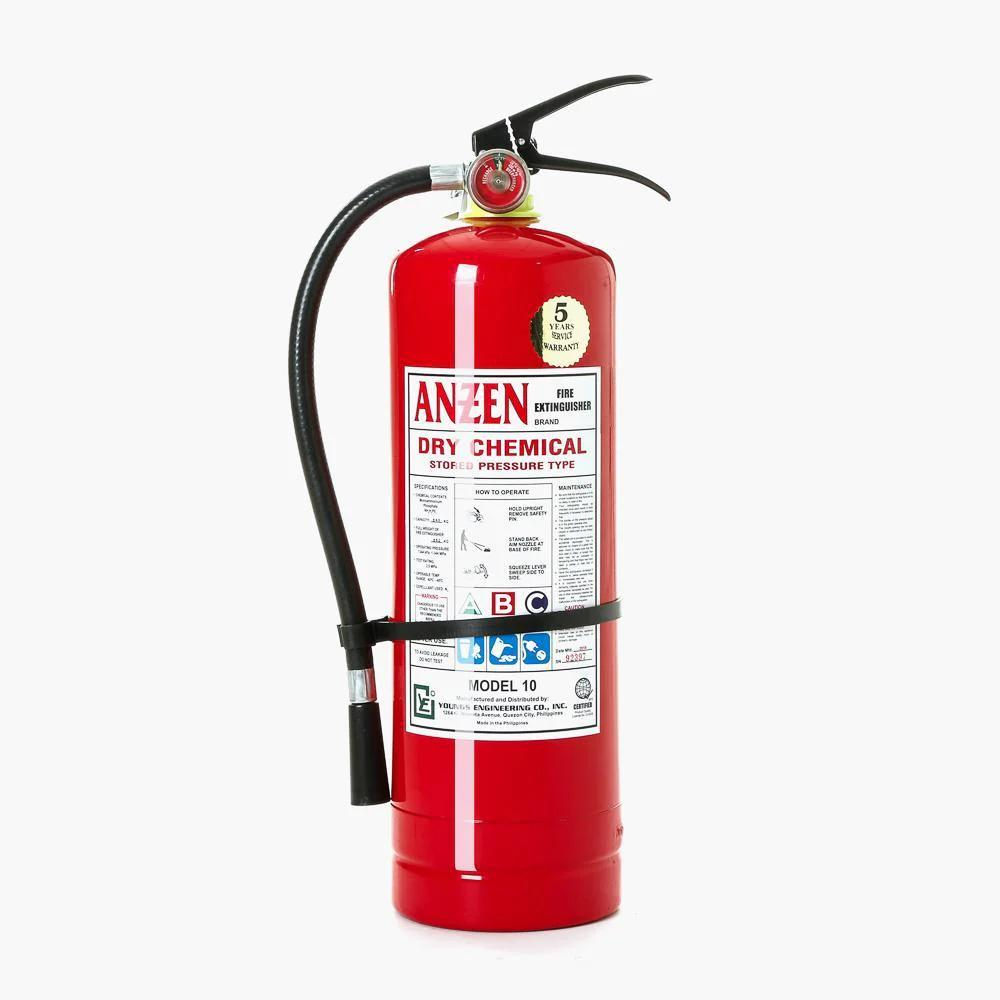fire-extinguisher: (281, 61, 674, 941)
